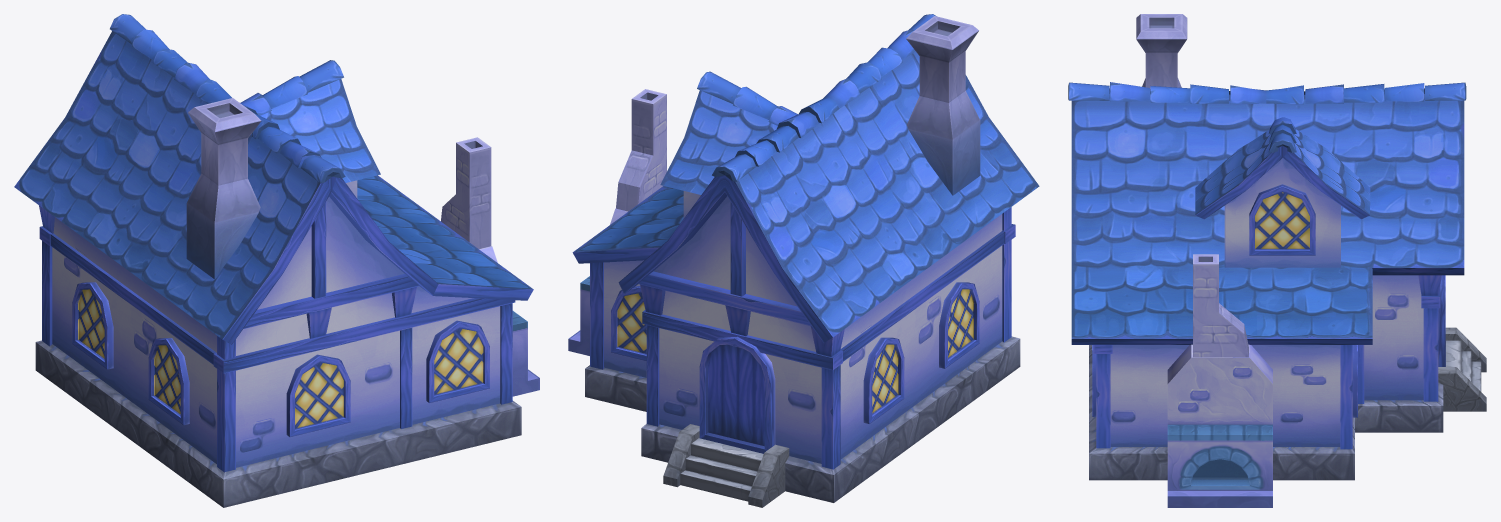
Rendered from houseBlue.fbx.
The picture shows the model from 3 angles, left to right: view 1: azimuth 30°, elevation 25°; view 2: azimuth 150°, elevation 25°; view 3: azimuth 270°, elevation 25°; orthographic projection. The views are drawn at different scales.
Parts seen in each view (by area): view 1: Baker_houseBlue; view 2: Baker_houseBlue; view 3: Baker_houseBlue.
Boxes of the visible parts, x1,y1,x2,y2 form: Baker_houseBlue: (14,14,539,507); Baker_houseBlue: (568,14,1039,507); Baker_houseBlue: (1068,14,1486,507).
Size of the model in its own units: 95.02 by 88.57 by 99.18.
